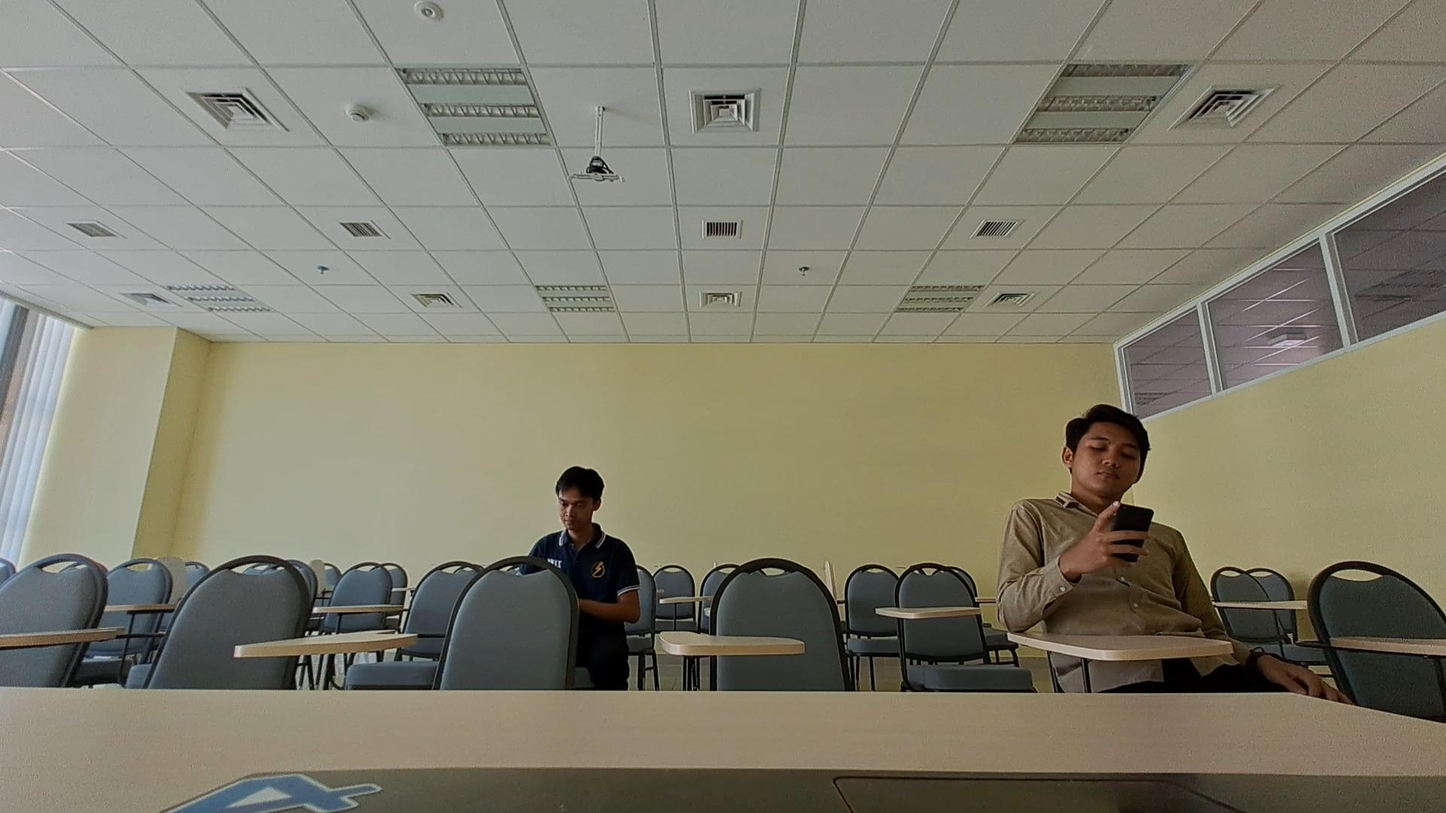sleep: (988, 399, 1220, 640)
study: (512, 457, 642, 621)
